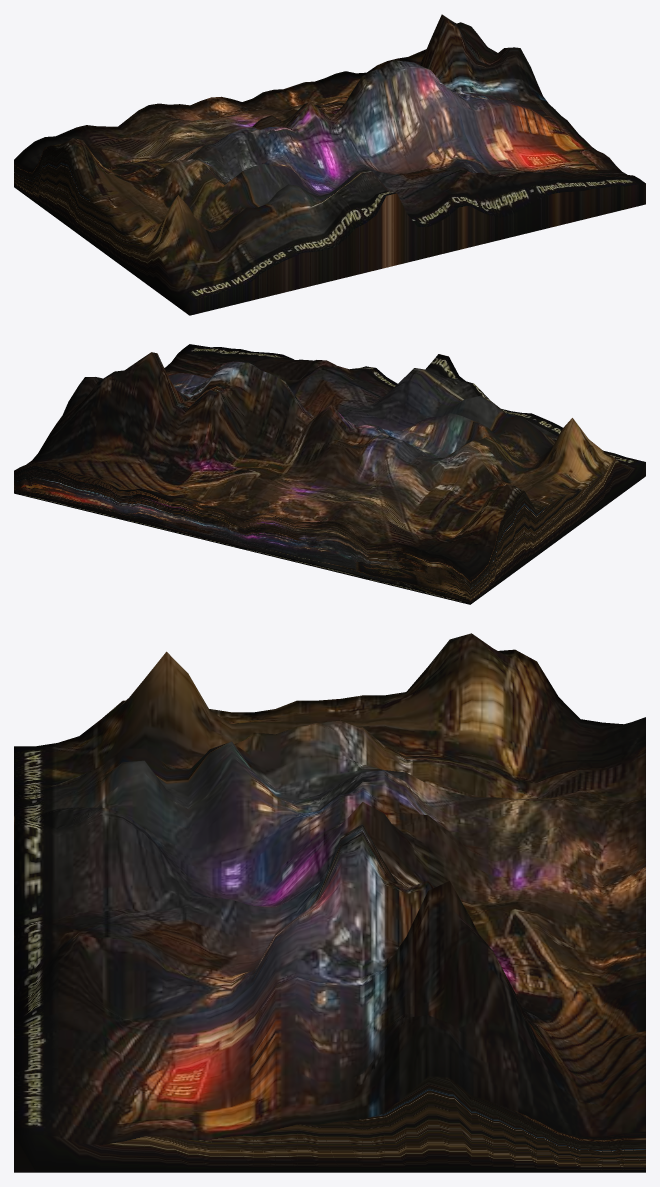
File: FACTION_INT_08_Underground_Syndicate.glb
The picture shows the model from 3 angles, top to bottom: view 1: azimuth 30°, elevation 25°; view 2: azimuth 150°, elevation 25°; view 3: azimuth 270°, elevation 25°; orthographic projection. The views are drawn at different scales.
Parts seen in each view (by area): view 1: FACTION_INT_08_Underground_Syndicate; view 2: FACTION_INT_08_Underground_Syndicate; view 3: FACTION_INT_08_Underground_Syndicate.
Boxes of the visible parts, x1,y1,x2,y2 form: FACTION_INT_08_Underground_Syndicate: [14, 14, 645, 315]; FACTION_INT_08_Underground_Syndicate: [14, 344, 645, 604]; FACTION_INT_08_Underground_Syndicate: [14, 633, 645, 1172].
Size of the model in its own units: 2 by 0.51 by 1.33.
1 material, 1 textured.
